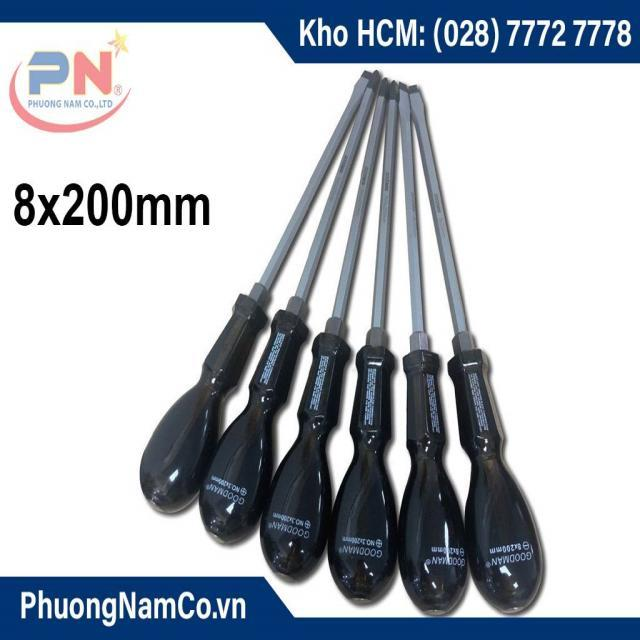screwdriver: (134, 64, 372, 520), (195, 65, 382, 549), (407, 76, 548, 620), (258, 72, 394, 585), (396, 78, 472, 617), (328, 75, 398, 610)
